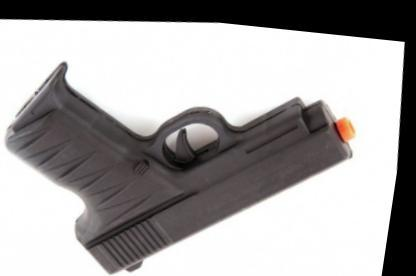pistol: (0, 22, 388, 273)
